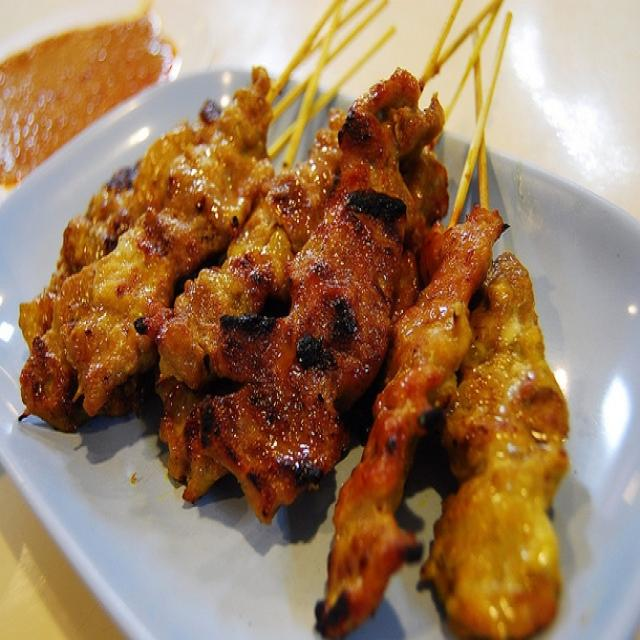牛肉菜式: (29, 31, 599, 618)
